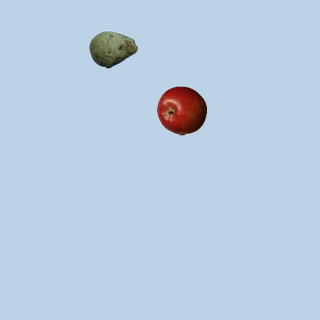Apple Braeburn: (156, 85, 206, 135)
Pear Stone: (88, 24, 138, 74)
